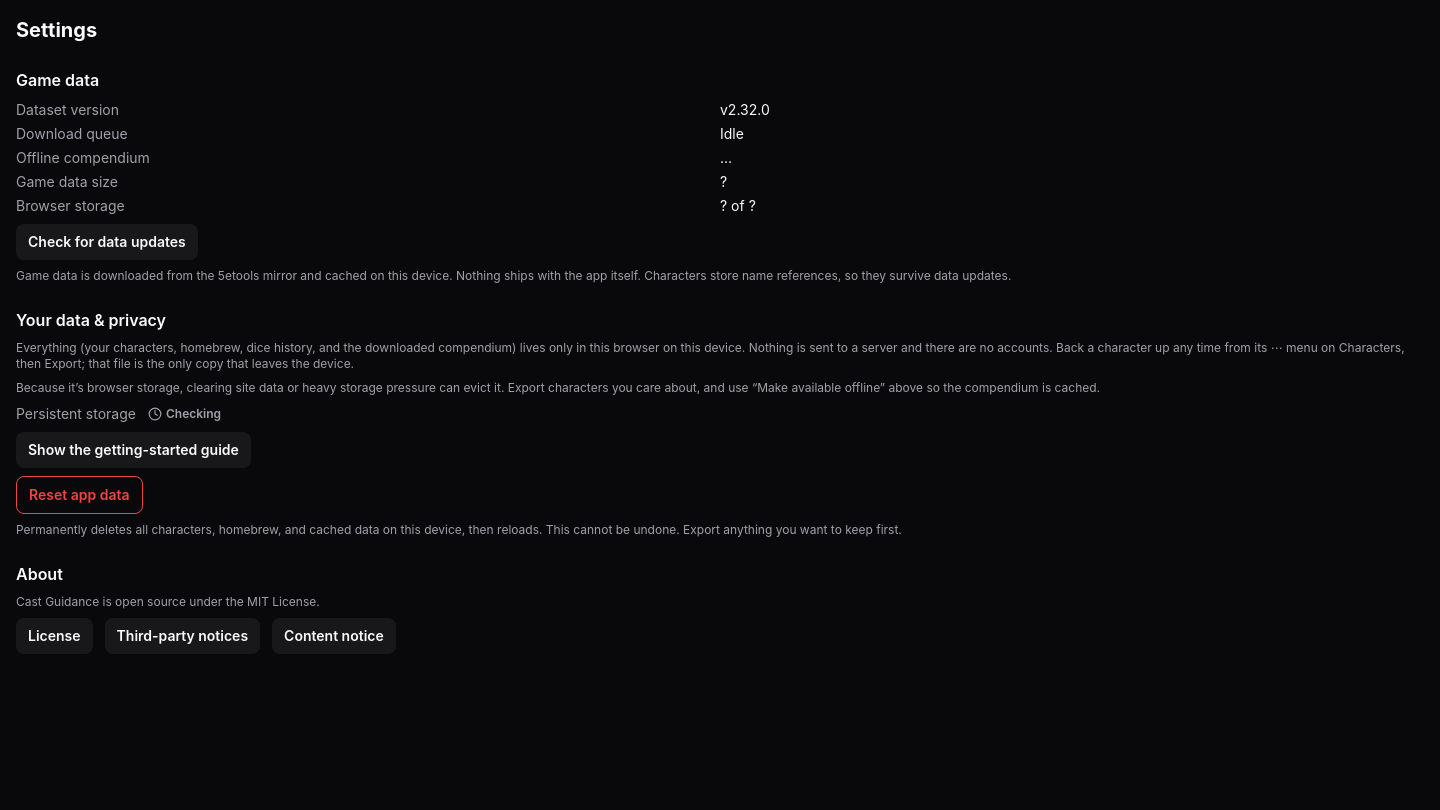
SettingsPage data section › announces a failure to list versions as a failure
This screenshot has width=1440, height=810.
Click the button "Check for data updates".
click(107, 242)  # box [16,224,198,260]
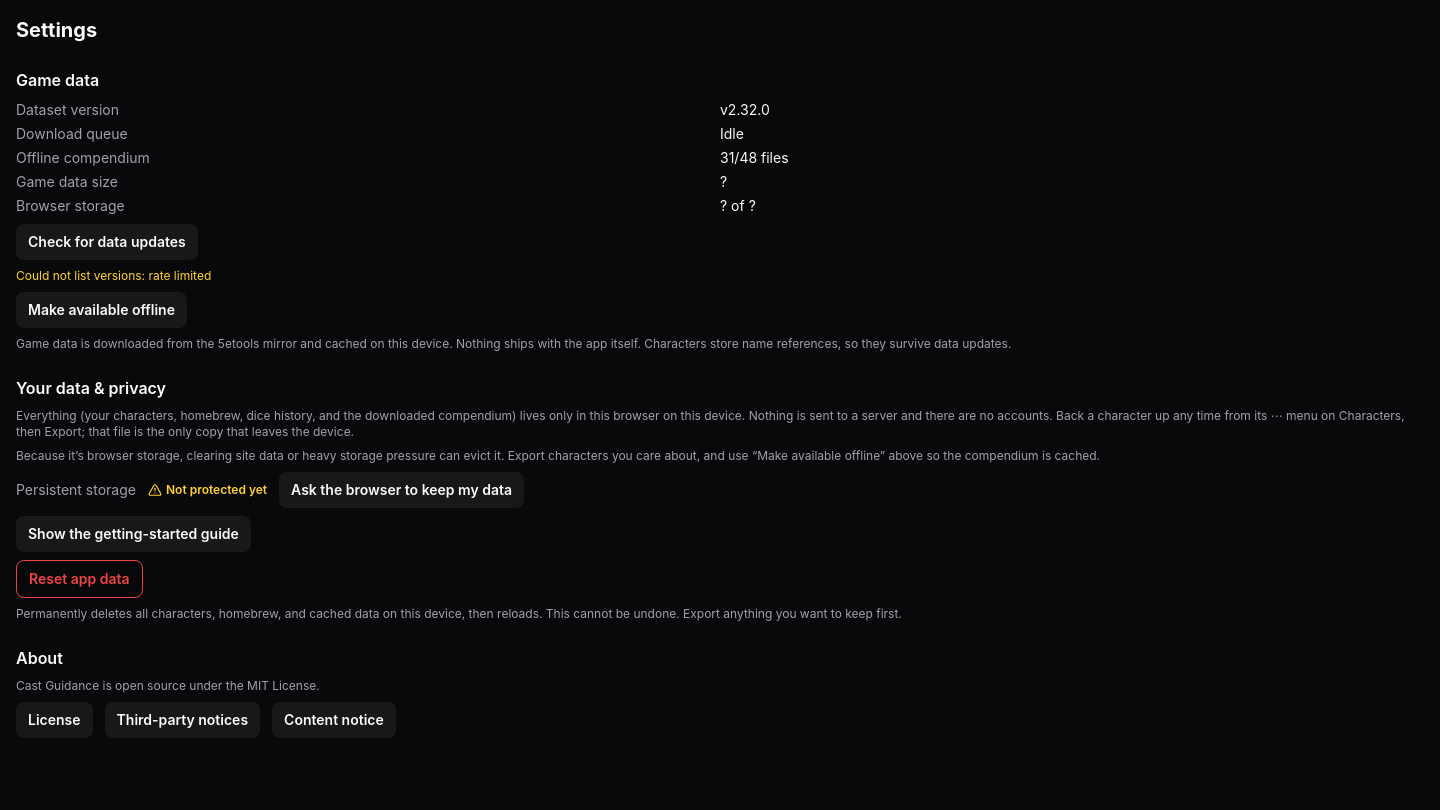
Check: the message shows "Could not list versions", box [16,268,211,283]
